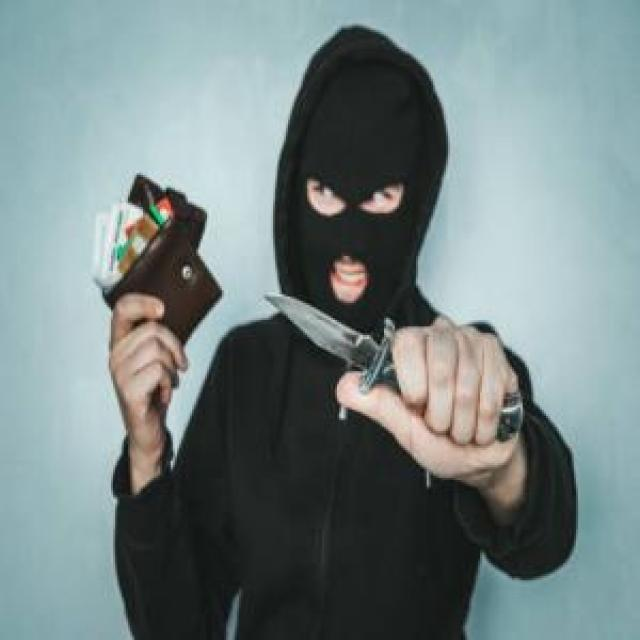knife: (262, 292, 523, 442)
